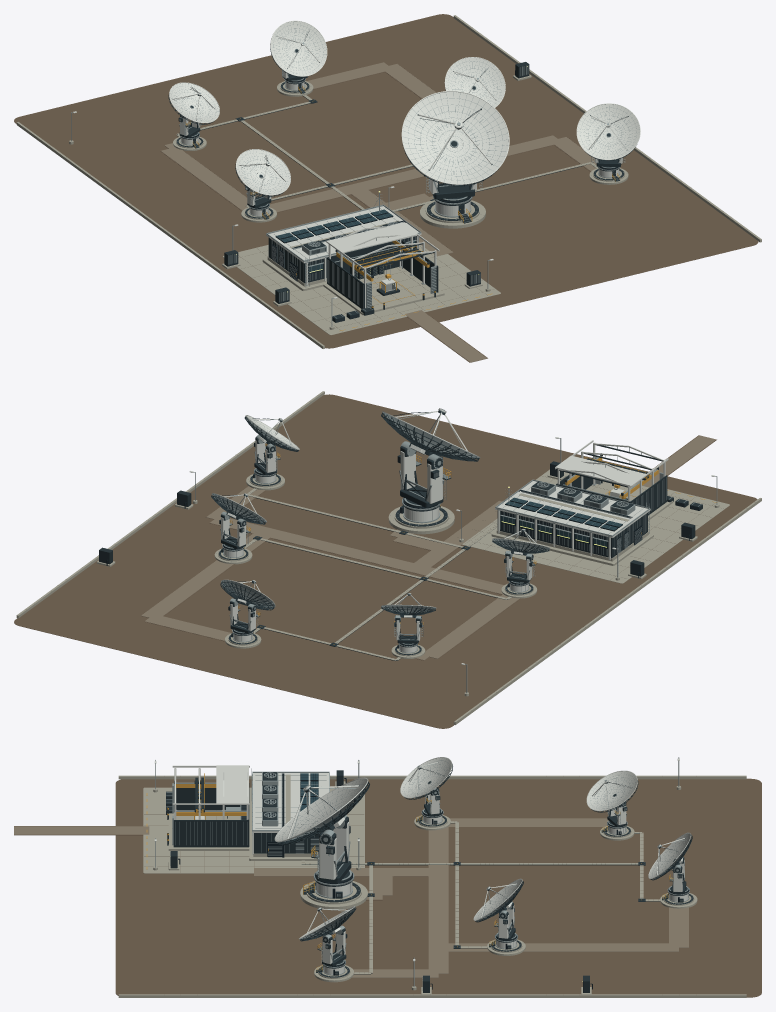
Rendered from observatory.glb.
The picture shows the model from 3 angles, top to bottom: view 1: azimuth 30°, elevation 25°; view 2: azimuth 150°, elevation 25°; view 3: azimuth 270°, elevation 25°; orthographic projection. The views are drawn at different scales.
Visible parts, largest first — view 1: Terrain_dust, Terrain_concrete, Terrain_road, HeroStation_Reflector_ivory, InstrumentWorkshop_graphite, Station_5_Reflector_ivory, Station_4_Reflector_ivory, InstrumentWorkshop_ivory, Station_2_Reflector_ivory, Station_1_Reflector_ivory, InstrumentWorkshop_concrete, CorrelatorHall_ivory (+13 smaller); view 2: Terrain_dust, Terrain_concrete, Terrain_road, CorrelatorHall_silver, CorrelatorHall_ivory, CorrelatorHall_graphite, InstrumentWorkshop_ivory, Terrain_graphite, InstrumentWorkshop_graphite, CorrelatorHall_concrete, CorrelatorHall_glass, CorrelatorHall_dark (+9 smaller); view 3: Terrain_dust, Terrain_concrete, Terrain_road, InstrumentWorkshop_graphite, HeroStation_Reflector_ivory, InstrumentWorkshop_ivory, CorrelatorHall_ivory, CorrelatorHall_silver, Station_3_Reflector_ivory, Terrain_graphite, Station_1_Reflector_ivory, CorrelatorHall_dark (+15 smaller).
Part boxes in pixels (left/top/right/bottom): Terrain_dust: left=14, top=14, right=758, bottom=362; Terrain_concrete: left=16, top=15, right=761, bottom=348; Terrain_road: left=25, top=27, right=747, bottom=362; HeroStation_Reflector_ivory: left=401, top=91, right=509, bottom=184; InstrumentWorkshop_graphite: left=327, top=239, right=438, bottom=309; Station_5_Reflector_ivory: left=576, top=103, right=640, bottom=160; Station_4_Reflector_ivory: left=270, top=20, right=327, bottom=76; InstrumentWorkshop_ivory: left=326, top=222, right=439, bottom=308; Station_2_Reflector_ivory: left=444, top=57, right=505, bottom=107; Station_1_Reflector_ivory: left=235, top=149, right=290, bottom=195; InstrumentWorkshop_concrete: left=323, top=267, right=444, bottom=314; CorrelatorHall_ivory: left=266, top=206, right=421, bottom=285; Terrain_dust: left=14, top=394, right=757, bottom=728; Terrain_concrete: left=16, top=391, right=761, bottom=724; Terrain_road: left=26, top=401, right=755, bottom=722; CorrelatorHall_silver: left=495, top=479, right=650, bottom=556; CorrelatorHall_ivory: left=495, top=481, right=650, bottom=560; CorrelatorHall_graphite: left=497, top=481, right=647, bottom=558; InstrumentWorkshop_ivory: left=555, top=440, right=668, bottom=501; Terrain_graphite: left=99, top=461, right=702, bottom=660; InstrumentWorkshop_graphite: left=556, top=445, right=667, bottom=515; CorrelatorHall_concrete: left=491, top=493, right=653, bottom=565; CorrelatorHall_glass: left=501, top=497, right=622, bottom=547; CorrelatorHall_dark: left=501, top=483, right=642, bottom=554; Terrain_dust: left=14, top=778, right=761, bottom=997; Terrain_concrete: left=118, top=775, right=746, bottom=997; Terrain_road: left=14, top=776, right=696, bottom=994; InstrumentWorkshop_graphite: left=167, top=780, right=249, bottom=847; HeroStation_Reflector_ivory: left=274, top=777, right=368, bottom=842; InstrumentWorkshop_ivory: left=172, top=765, right=249, bottom=819; CorrelatorHall_ivory: left=252, top=773, right=329, bottom=854; CorrelatorHall_silver: left=251, top=768, right=329, bottom=857; Station_3_Reflector_ivory: left=586, top=770, right=637, bottom=811; Terrain_graphite: left=166, top=770, right=659, bottom=992; Station_1_Reflector_ivory: left=400, top=757, right=452, bottom=798; CorrelatorHall_dark: left=264, top=773, right=318, bottom=857.
Size of what is drawn, in the model's own units: 84.41 by 20.4 by 122.
